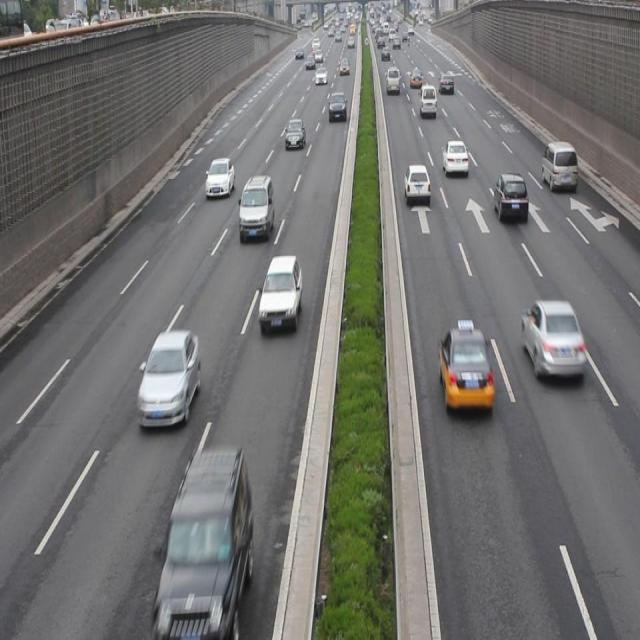car: (156, 447, 251, 640), (136, 329, 200, 426), (520, 298, 584, 380), (438, 327, 493, 413), (258, 253, 302, 330), (492, 172, 527, 223), (205, 156, 235, 198), (403, 163, 430, 206), (442, 138, 468, 176), (284, 117, 305, 151)
truck: (238, 174, 273, 240), (542, 139, 577, 190)
